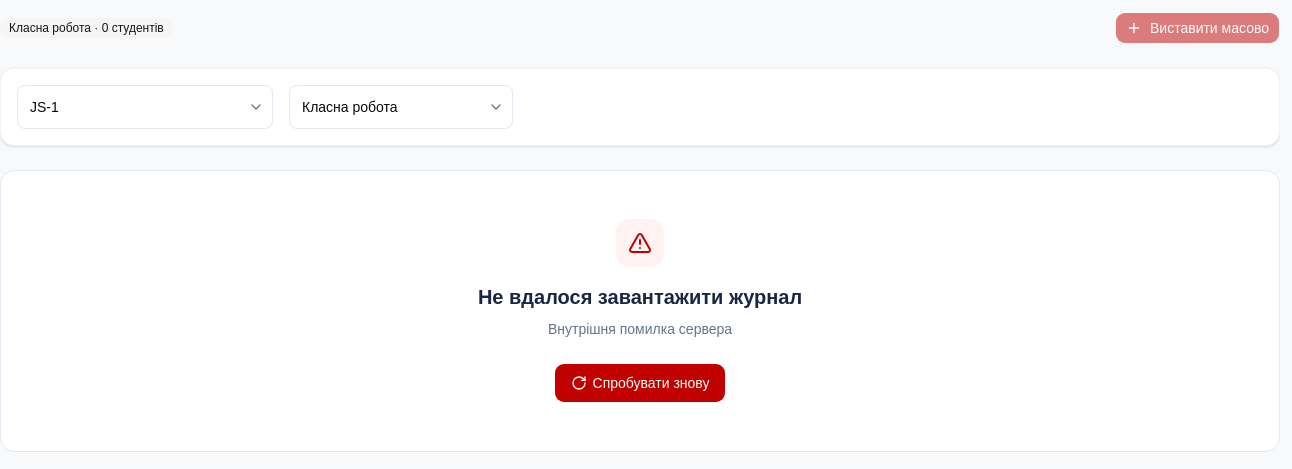
Test: GradesPage — порожні стани › при збої завантаження показує помилку з кнопкою повтору
The image size is (1292, 469).
expect the heading "Не вдалося завантажити журнал" is shown: met, box [478,283,802,311]
Click the button "Спробувати знову".
click(640, 383)  # box [554,363,726,403]
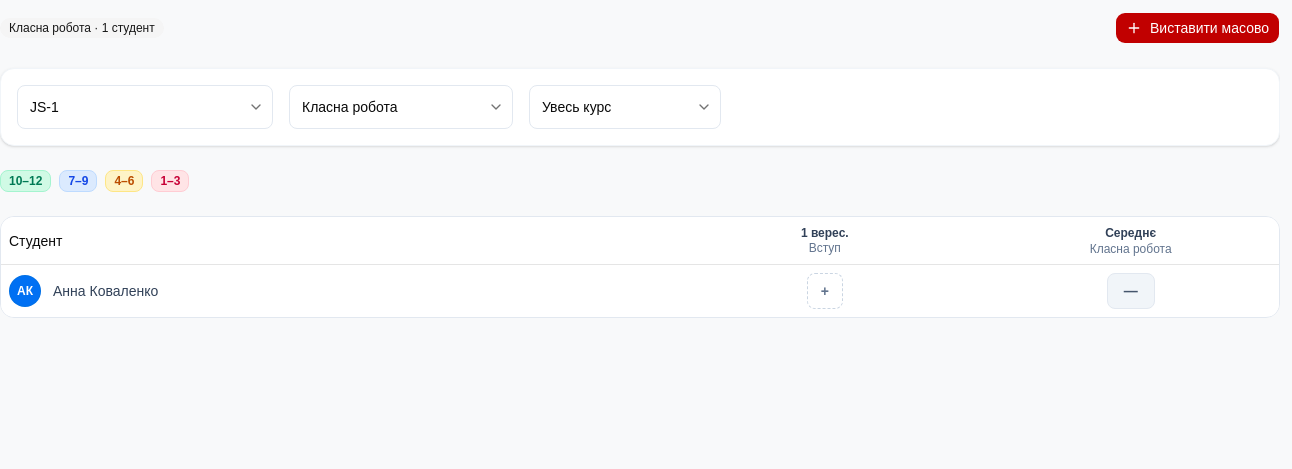
expect the button named "виставити оцінку" is shown: met, box [807,273,843,309]
